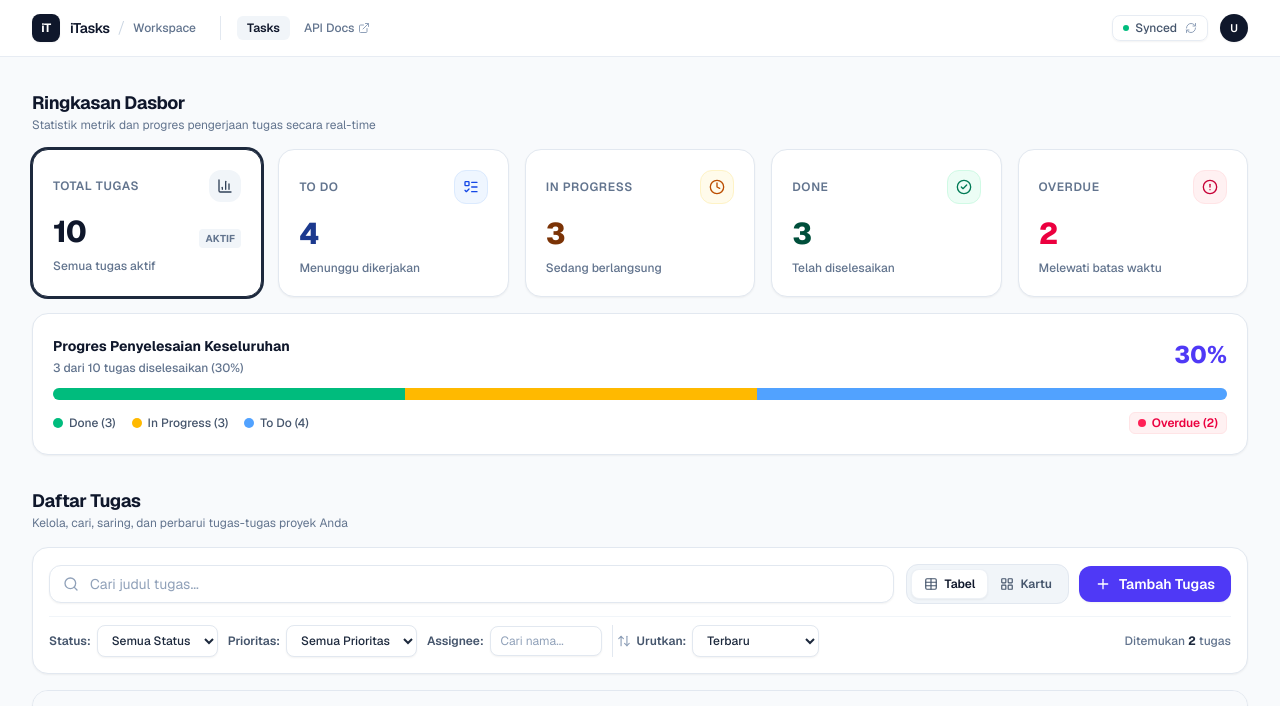
Test case: HomePage › tampilan data › dapat beralih ke tampilan kartu dan kembali ke tabel
Click the button titled "Tampilan Kartu / Grid".
click(1026, 584)  # box [988,570,1064,598]
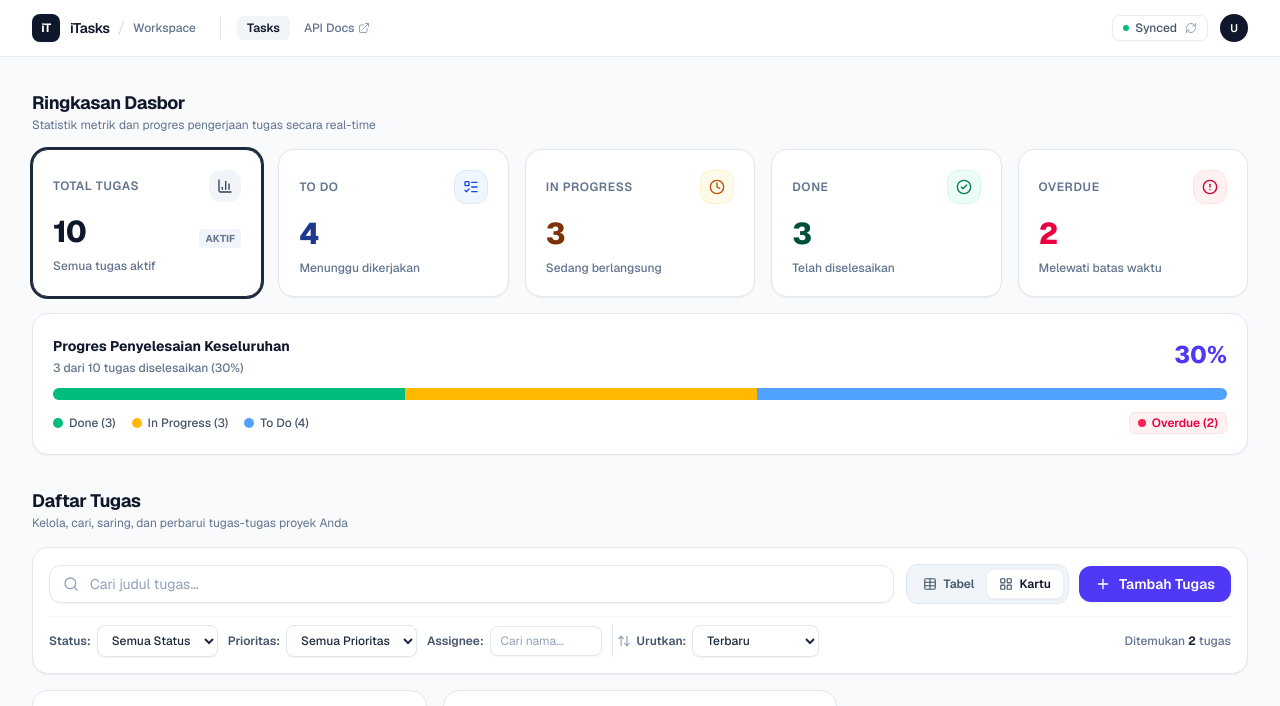
Click the button titled "Tampilan Tabel".
click(949, 584)  # box [912,570,986,598]
(page scrolled)
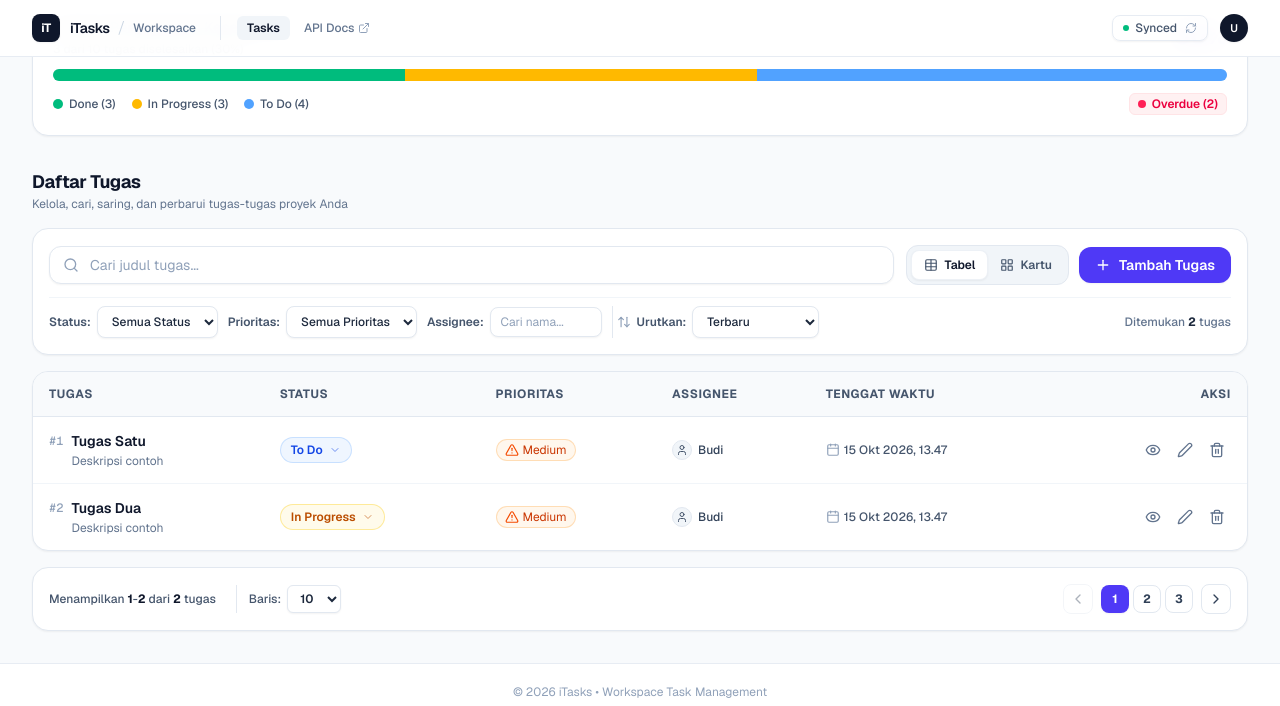
Result: the table is shown at [33,372,1247,550]
